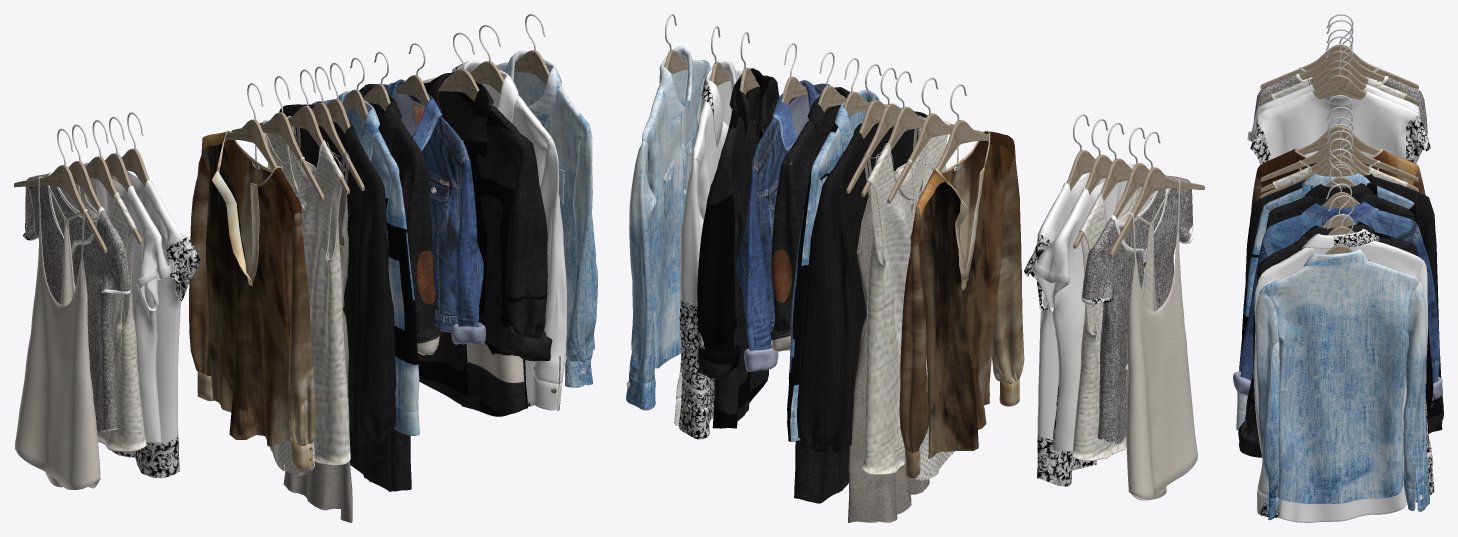
Rendered from rod-hang-row.glb.
3 views of the same model, side by side, from view 1: azimuth 30°, elevation 25°; view 2: azimuth 150°, elevation 25°; view 3: azimuth 270°, elevation 25° (orthographic). The views are drawn at different scales.
Visible parts, largest first — view 1: sweater05.001, shirt05.001, blouse22.001, shirt01.001, vest02.001, Jean_jacket.001, shirt044.001, blouse03.001, shirt03.001, shirt06.001, blouse05.001, shirt02.001 (+17 smaller); view 2: sweater05.001, shirt01.001, shirt044.001, shirt05.001, blouse22.001, vest02.001, blouse03.001, shirt06.001, shirt03.001, Jean_jacket.001, blouse04.001, dress004.001 (+14 smaller); view 3: shirt044.001, blouse05.001, shirt06.001, Jean_jacket.001, shirt05.001, shirt01.001, shirt02.001, shirt03.001, sweater05.001, Hangers_for_clothes089.001, blouse04.001, blouse03.001 (+17 smaller).
Boxes of the visible parts, x1=… form: sweater05.001: x1=189, y1=130, x2=315, y2=468; shirt05.001: x1=417, y1=73, x2=552, y2=416; blouse22.001: x1=14, y1=176, x2=100, y2=489; shirt01.001: x1=279, y1=101, x2=396, y2=446; vest02.001: x1=263, y1=116, x2=350, y2=465; Jean_jacket.001: x1=365, y1=79, x2=485, y2=344; shirt044.001: x1=496, y1=50, x2=597, y2=387; blouse03.001: x1=23, y1=172, x2=131, y2=431; shirt03.001: x1=349, y1=84, x2=439, y2=491; shirt06.001: x1=422, y1=60, x2=566, y2=410; blouse05.001: x1=83, y1=159, x2=200, y2=478; shirt02.001: x1=311, y1=91, x2=419, y2=435; sweater05.001: x1=899, y1=130, x2=1024, y2=478; shirt01.001: x1=797, y1=109, x2=927, y2=453; shirt044.001: x1=626, y1=46, x2=710, y2=410; shirt05.001: x1=697, y1=68, x2=779, y2=428; blouse22.001: x1=1125, y1=179, x2=1197, y2=500; vest02.001: x1=862, y1=117, x2=950, y2=474; blouse03.001: x1=1081, y1=175, x2=1193, y2=444; shirt06.001: x1=674, y1=59, x2=742, y2=439; shirt03.001: x1=770, y1=87, x2=849, y2=503; Jean_jacket.001: x1=736, y1=80, x2=829, y2=371; blouse04.001: x1=1032, y1=168, x2=1132, y2=451; dress004.001: x1=848, y1=115, x2=929, y2=522; shirt044.001: x1=1255, y1=249, x2=1429, y2=520; blouse05.001: x1=1250, y1=90, x2=1430, y2=164; shirt06.001: x1=1253, y1=229, x2=1434, y2=522; Jean_jacket.001: x1=1233, y1=201, x2=1442, y2=399; shirt05.001: x1=1238, y1=222, x2=1442, y2=457; shirt01.001: x1=1242, y1=173, x2=1443, y2=419; shirt02.001: x1=1236, y1=173, x2=1442, y2=431; shirt03.001: x1=1266, y1=183, x2=1414, y2=229; sweater05.001: x1=1250, y1=148, x2=1425, y2=221; Hangers_for_clothes089.001: x1=1260, y1=106, x2=1418, y2=181; blouse04.001: x1=1247, y1=84, x2=1429, y2=163; blouse03.001: x1=1253, y1=73, x2=1427, y2=135.
Size of the model in its own units: 1.45 by 1.15 by 0.5826.
Materials: 23 (20 with a texture image).
